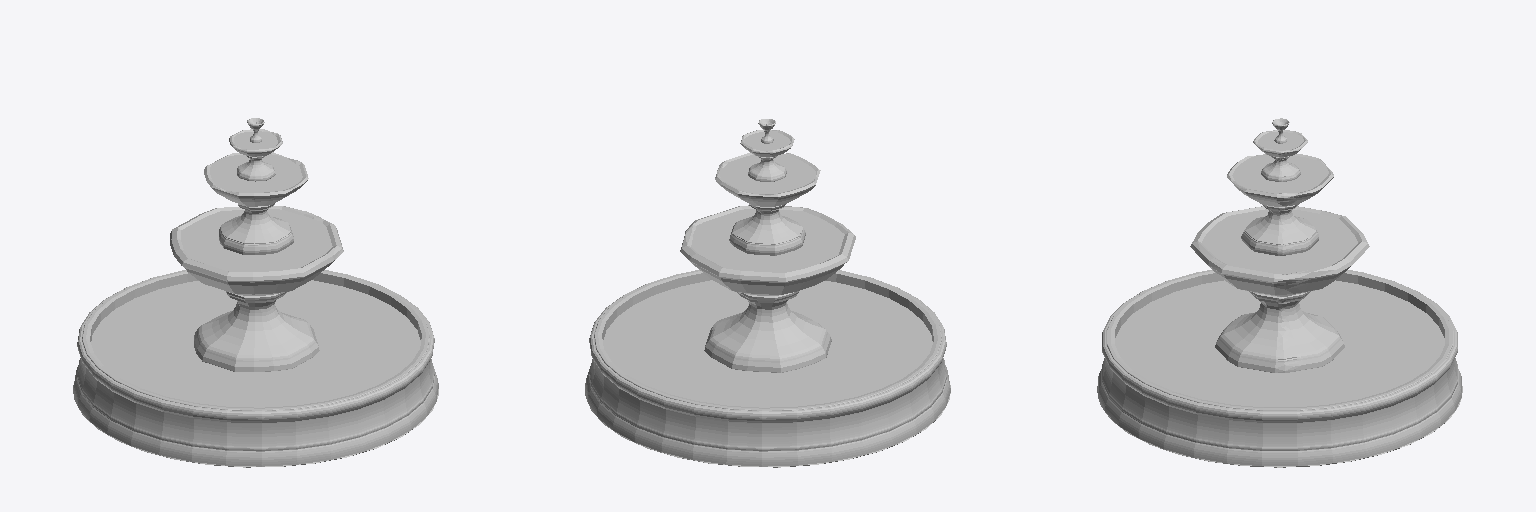
Rendered from fountain.obj.
The picture shows the model from 3 angles: view 1: azimuth 30°, elevation 25°; view 2: azimuth 150°, elevation 25°; view 3: azimuth 270°, elevation 25°; orthographic projection.
Bounding box in the file's own units: 185 × 150 × 185.